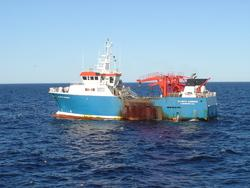Cargoship: (47, 35, 221, 126)
